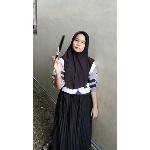Pisau: (48, 32, 68, 64)
